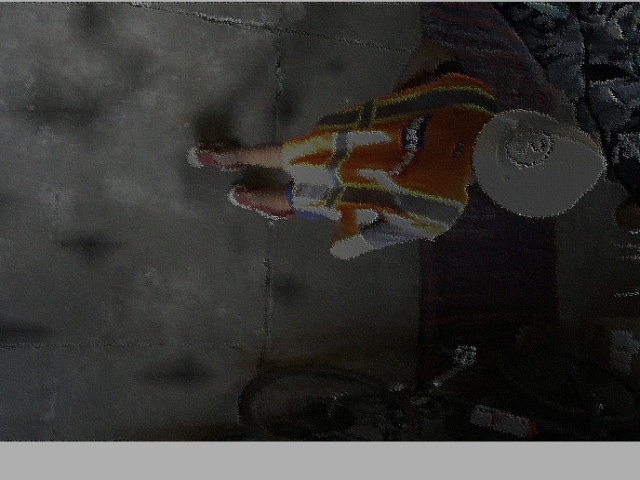three: (504, 130, 553, 164)
